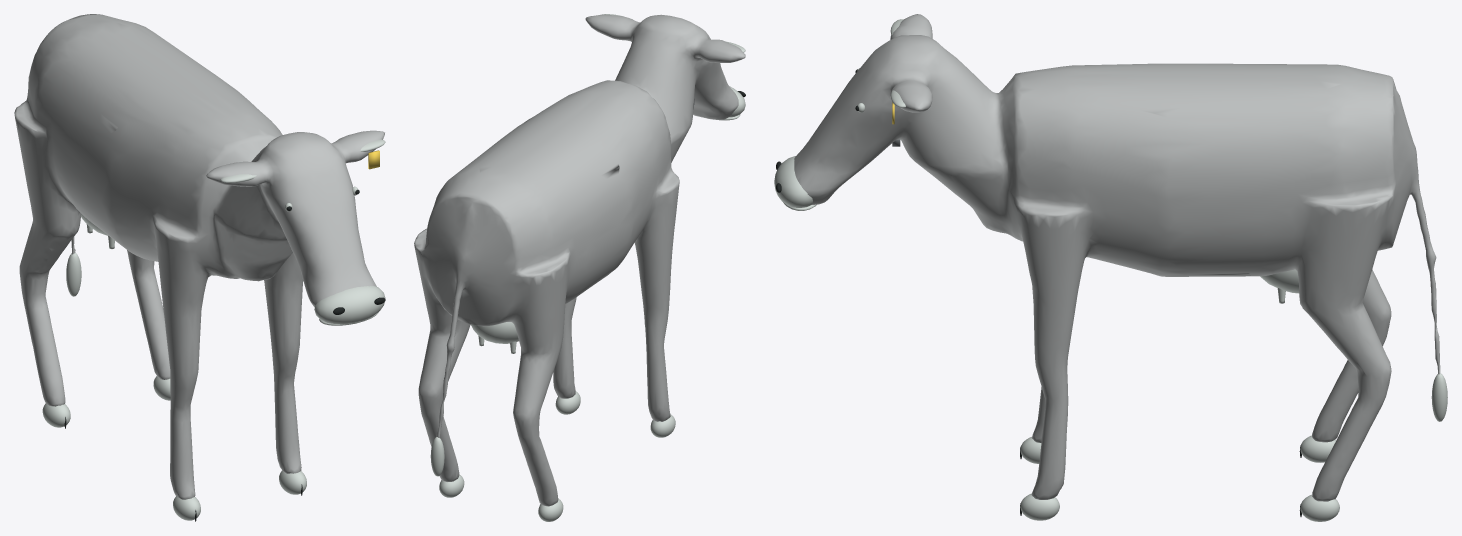
Rendered from cow_unknown.glb.
The picture shows the model from 3 angles, left to right: view 1: azimuth 30°, elevation 25°; view 2: azimuth 150°, elevation 25°; view 3: azimuth 270°, elevation 25°; orthographic projection. The views are drawn at different scales.
Parts seen in each view (by area): view 1: continuous_skin_0, muzzle_1, tail_switch_20, hoof_9, hoof_7, hoof_15; view 2: continuous_skin_0, udder_21, tail_switch_20, hoof_7, hoof_15, hoof_9, hoof_17; view 3: continuous_skin_0, muzzle_1, hoof_15, hoof_17.
Boxes of the visible parts, left/top/right/bottom form: continuous_skin_0: left=14, top=14, right=384, bottom=499; muzzle_1: left=314, top=286, right=385, bottom=324; tail_switch_20: left=66, top=252, right=81, bottom=296; hoof_9: left=42, top=403, right=70, bottom=427; hoof_7: left=173, top=496, right=200, bottom=520; hoof_15: left=279, top=470, right=306, bottom=494; continuous_skin_0: left=414, top=14, right=745, bottom=506; udder_21: left=470, top=322, right=518, bottom=343; tail_switch_20: left=430, top=437, right=444, bottom=476; hoof_7: left=650, top=414, right=675, bottom=437; hoof_15: left=555, top=391, right=580, bottom=414; hoof_9: left=538, top=498, right=563, bottom=521; hoof_17: left=439, top=474, right=464, bottom=497; continuous_skin_0: left=794, top=14, right=1440, bottom=501; muzzle_1: left=774, top=156, right=812, bottom=207; hoof_15: left=1020, top=493, right=1059, bottom=520; hoof_17: left=1300, top=494, right=1339, bottom=521.
Bounding box in the file's own units: 0.7567 × 1.66 × 2.26.
9 materials, 1 textured.
